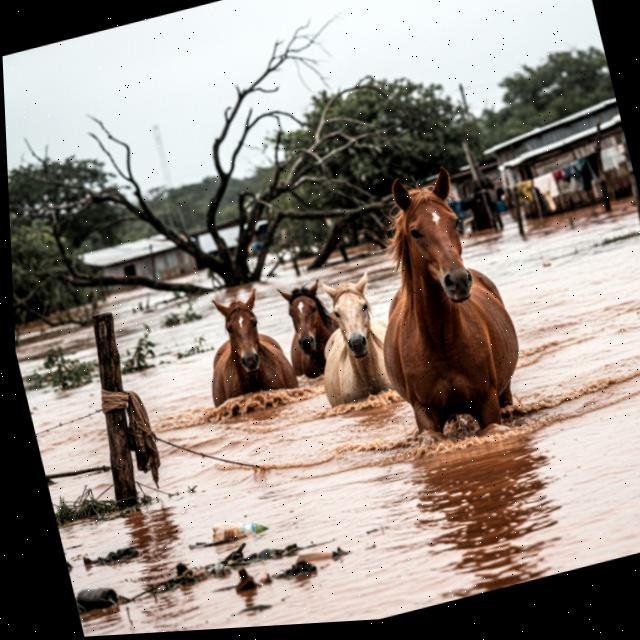horse: (332, 148, 548, 473), (172, 277, 304, 428), (299, 269, 405, 419), (259, 268, 349, 403)
